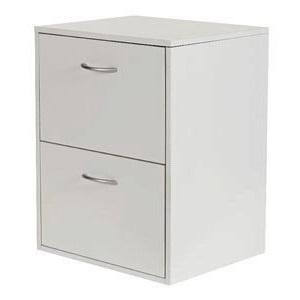cabinet_door: (42, 41, 167, 153), (41, 153, 166, 262)
handle: (78, 60, 120, 78), (80, 172, 120, 189)
